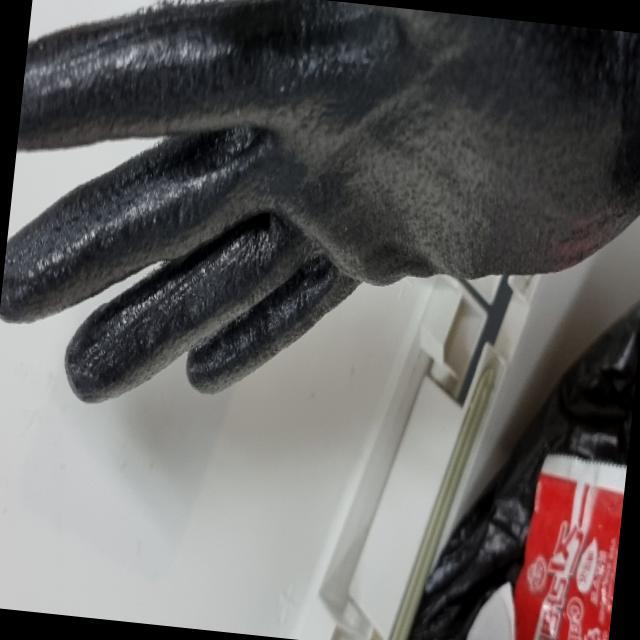Gloves: (0, 0, 638, 410)
